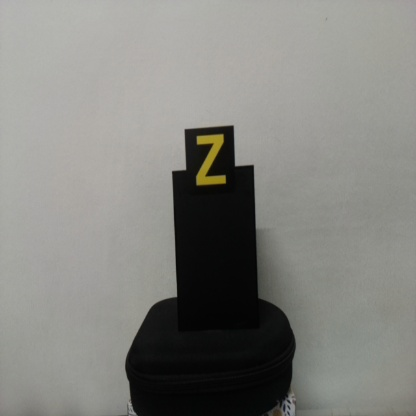id_15: (185, 129, 236, 194)
